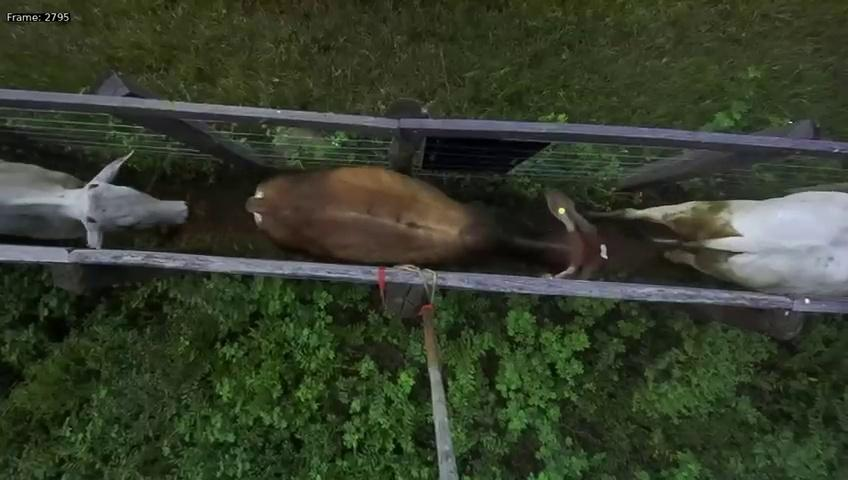cattle: (238, 159, 617, 288)
